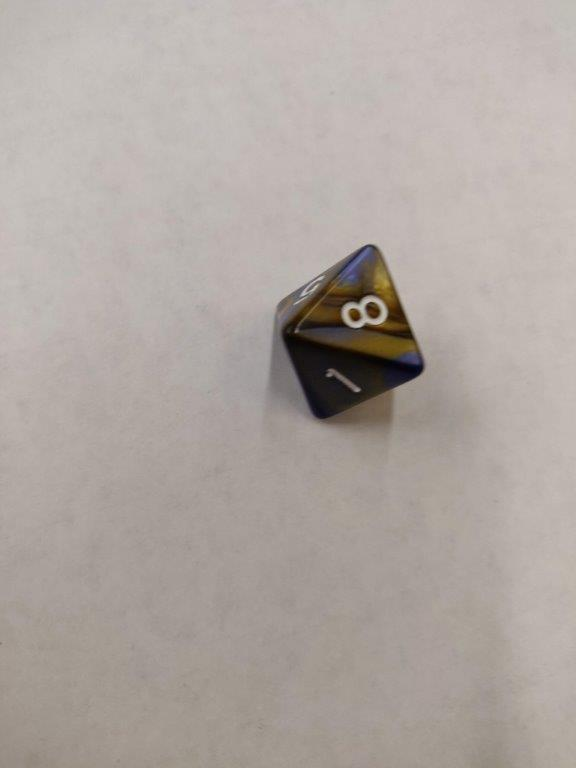d8-8: (278, 242, 427, 426)
